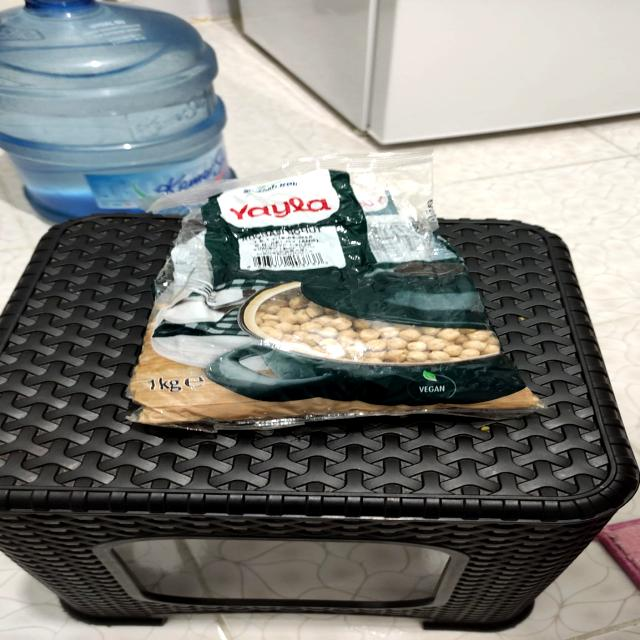chickpeas: (170, 190, 528, 414)
